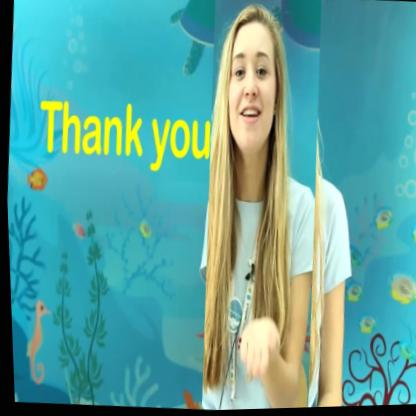ThankYou: (187, 0, 334, 412)
